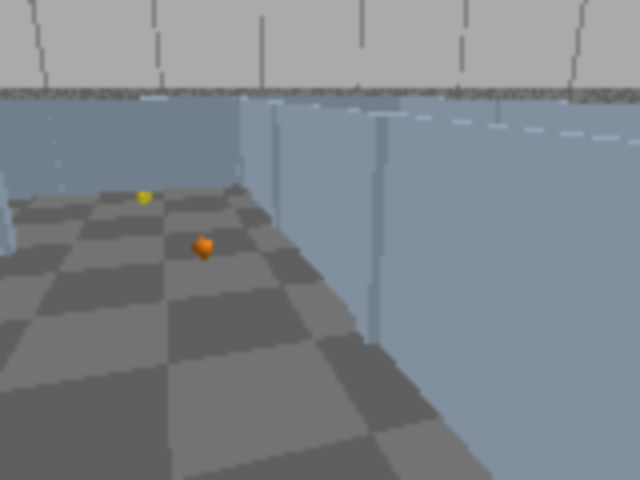puck: (190, 234, 218, 263)
